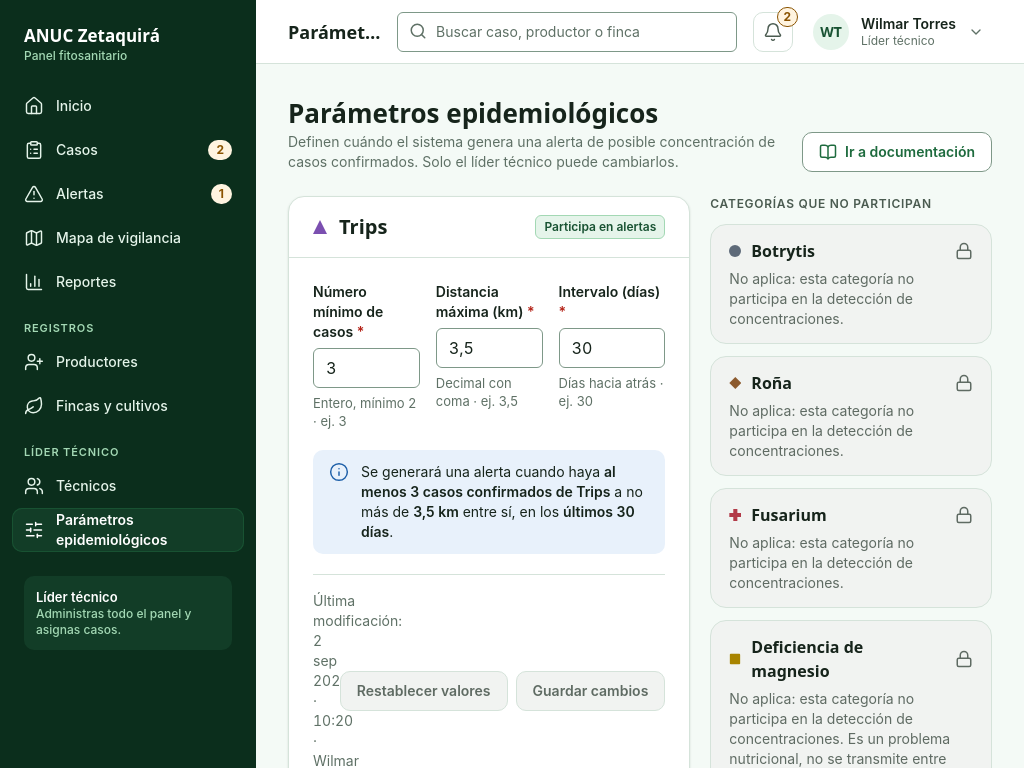
it: Parámetros epidemiológicos › valida los valores antes de guardar
Replace the text in the field labelled "Número mínimo de casos *" with "1": (366, 368) [313, 348, 420, 388]
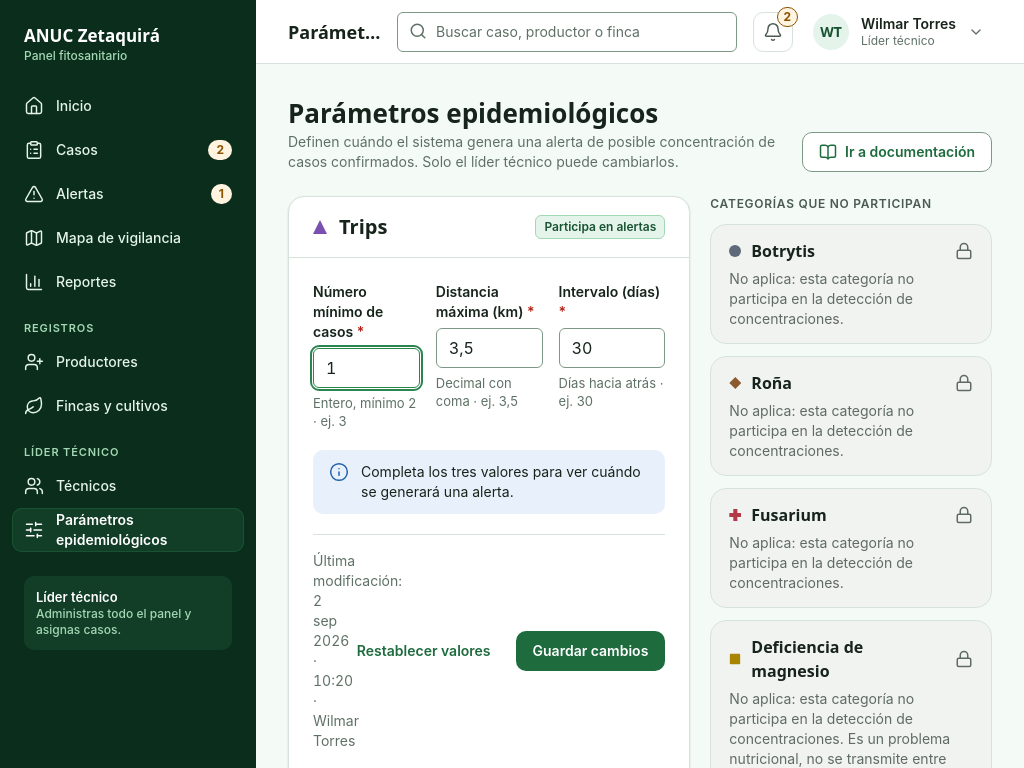
Replace the text in the field labelled "Intervalo (días) *" with "abc": (612, 348) [558, 328, 665, 368]
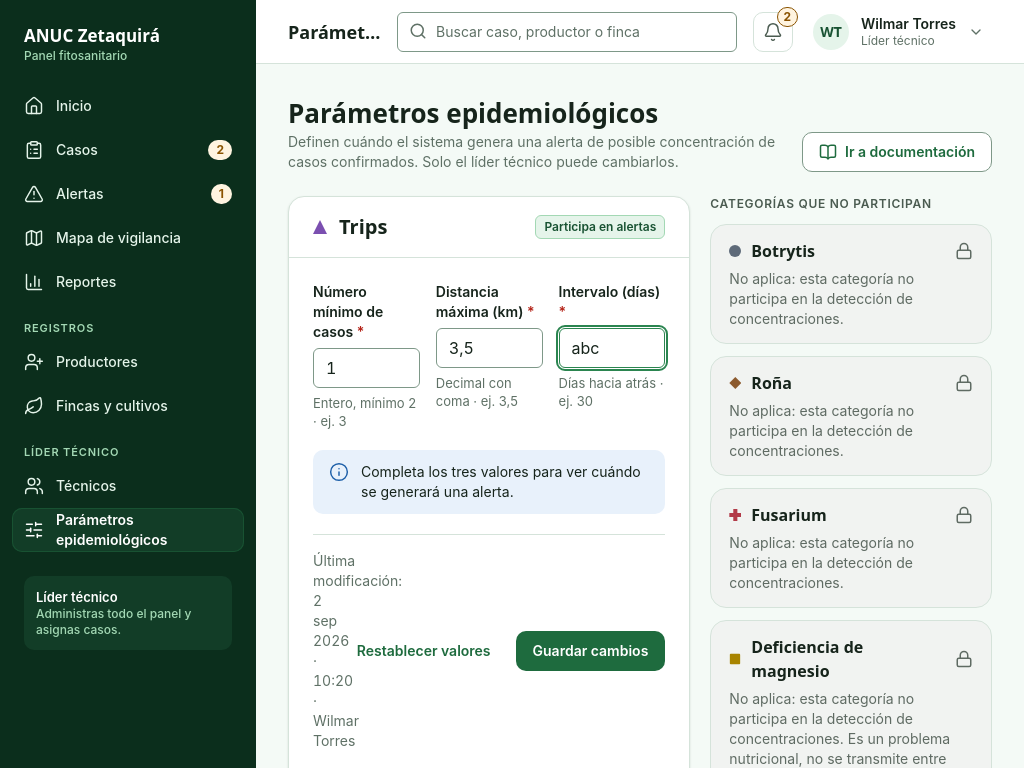
Click the button "Guardar cambios": (590, 651) [516, 631, 665, 671]
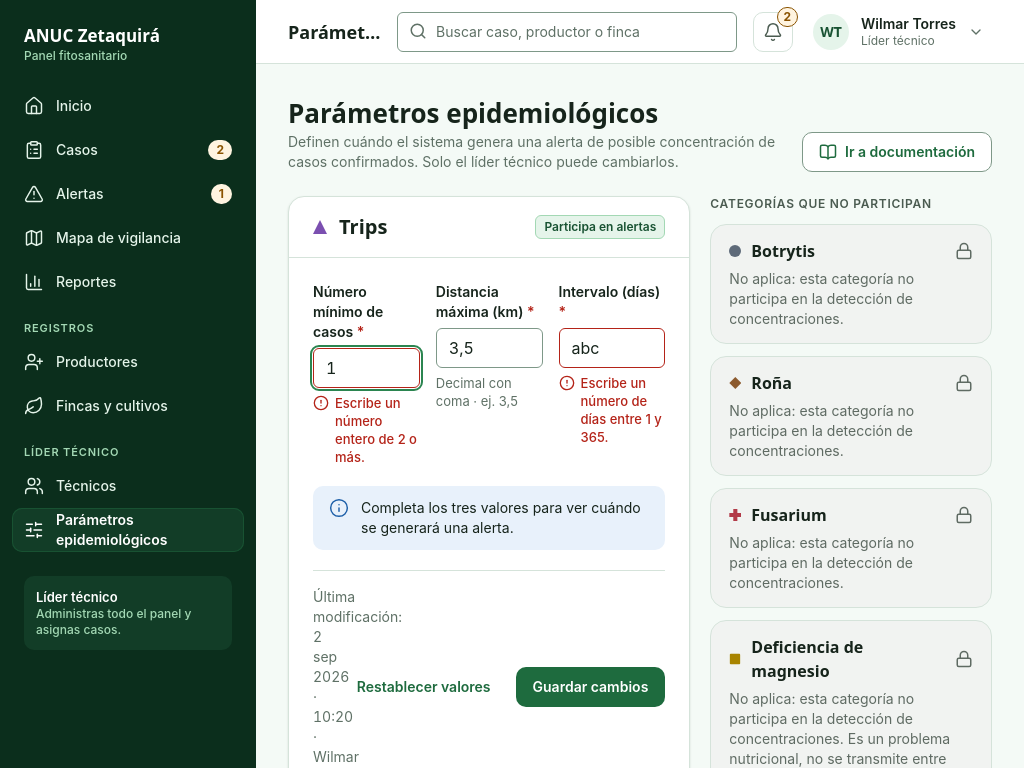
Result: the text "Escribe un número entero de 2 o más." is shown at [313, 394, 420, 466]
Result: the text "Escribe un número de días entre 1 y 365." is shown at [558, 374, 665, 446]
